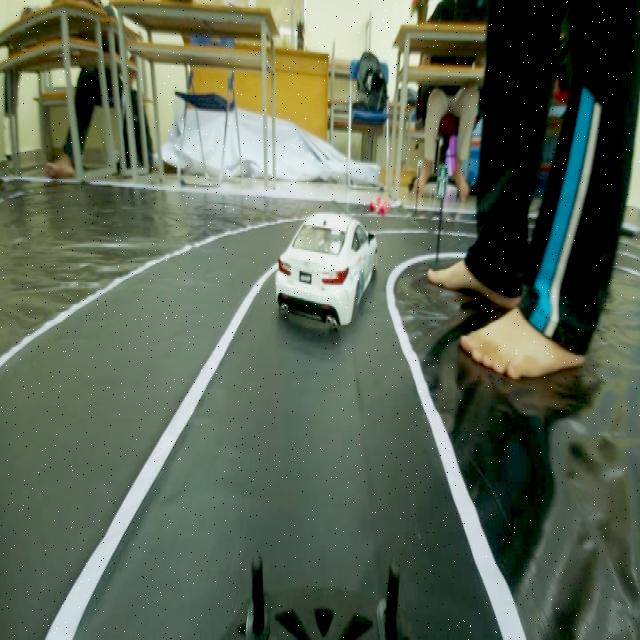car: (276, 196, 370, 338)
highway_entry: (433, 163, 453, 206)
